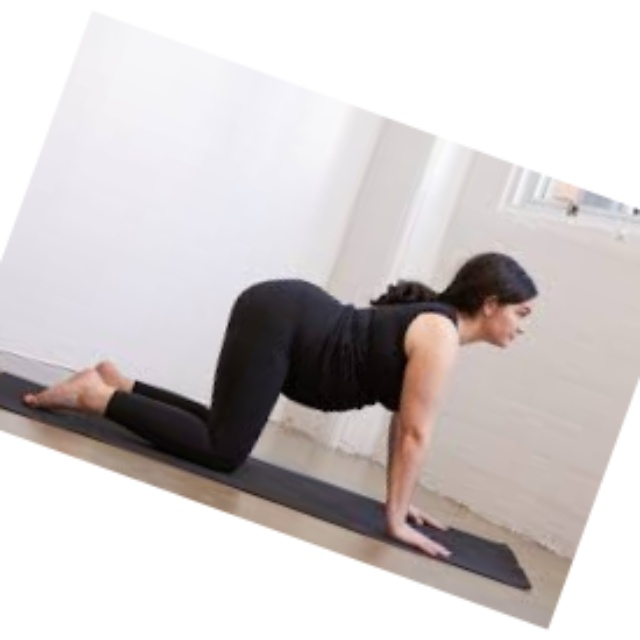Cow_Pose: (25, 250, 540, 563)
